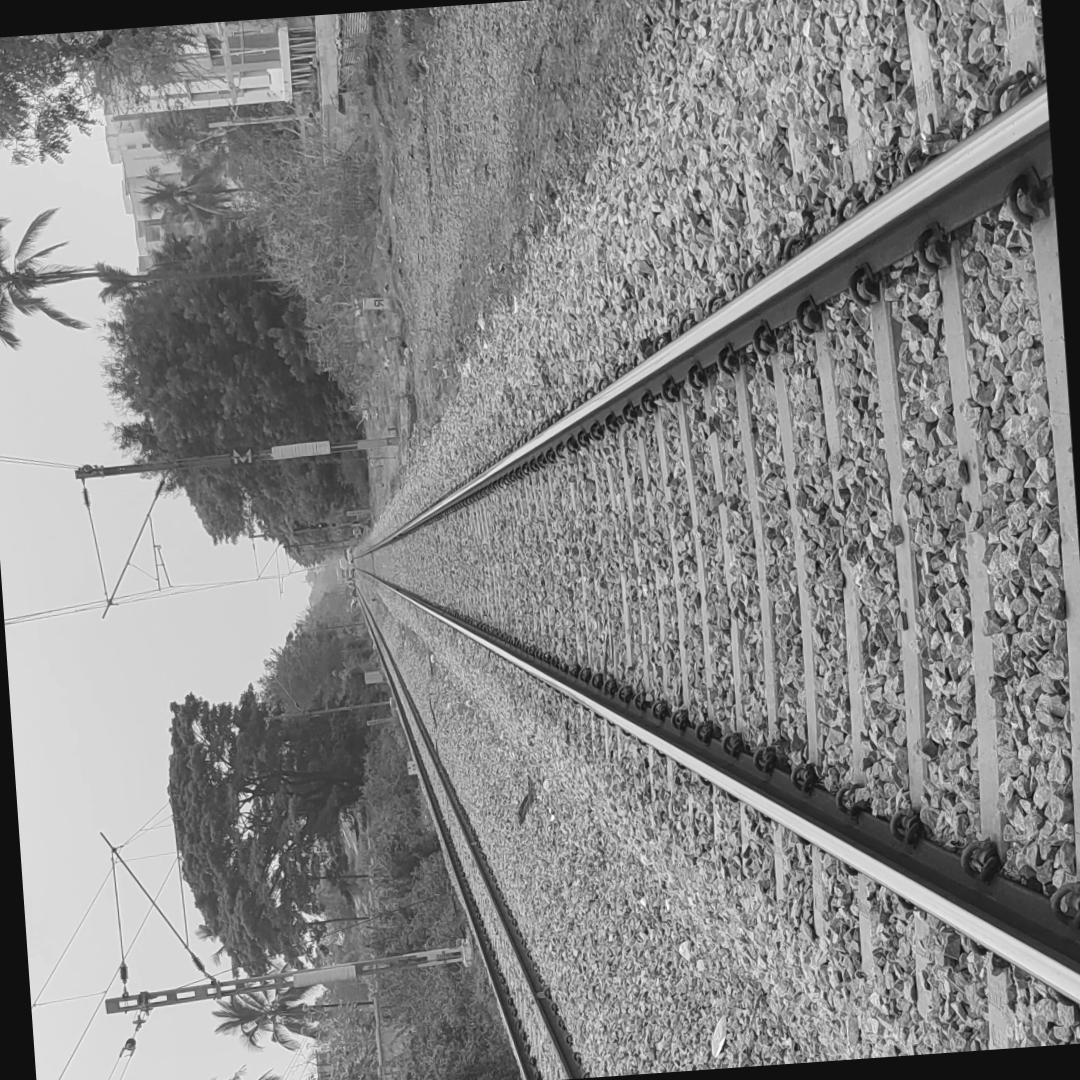track: (345, 0, 1080, 1051)
